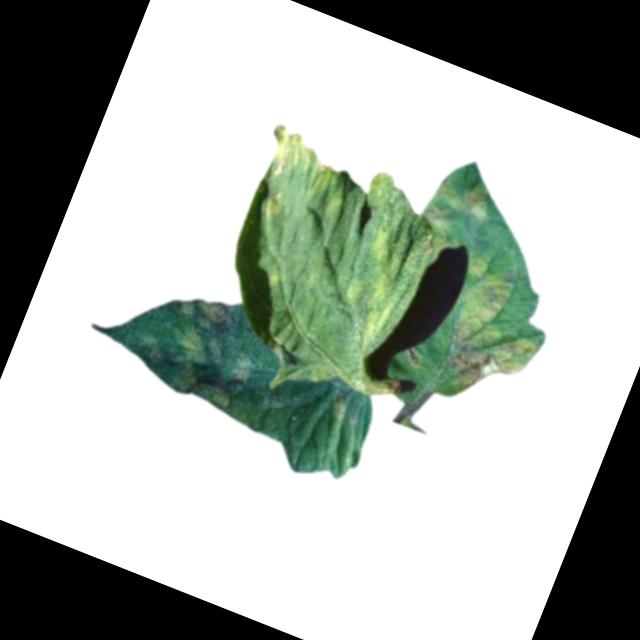Leaf_Mold: (424, 255, 560, 408), (132, 278, 270, 415), (328, 223, 416, 349), (257, 118, 345, 198), (418, 166, 499, 241), (261, 187, 294, 221)
